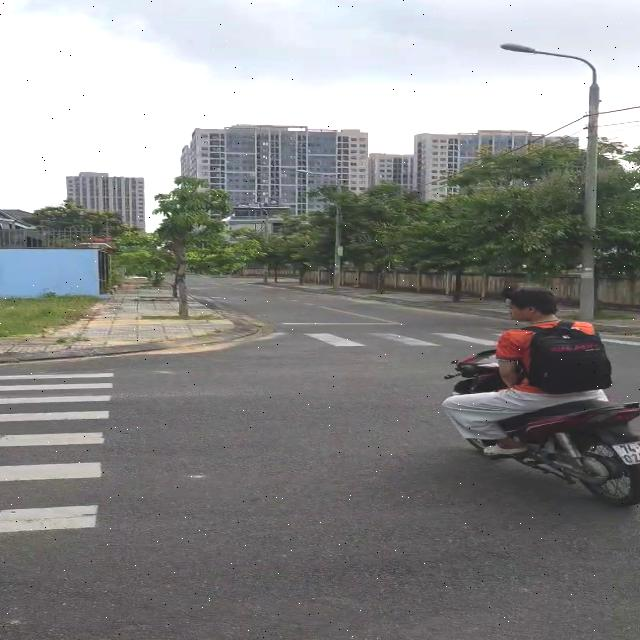no_helmet: (503, 281, 568, 328)
